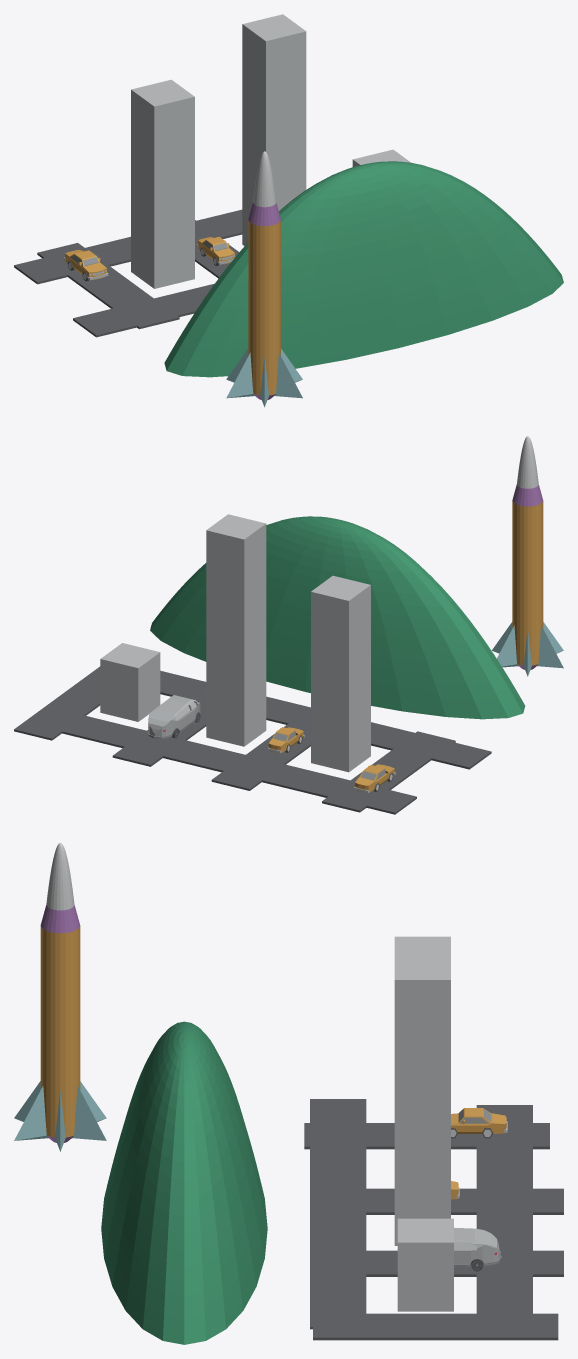
The picture shows the model from 3 angles, top to bottom: view 1: azimuth 30°, elevation 25°; view 2: azimuth 150°, elevation 25°; view 3: azimuth 270°, elevation 25°; orthographic projection. The views are drawn at different scales.
Visible parts, largest first — view 1: Mesh_Mesh_head_geo.001_lambert2SG.001; view 2: Mesh_Mesh_head_geo.001_lambert2SG.001; view 3: Mesh_Mesh_head_geo.001_lambert2SG.001.
Part boxes in pixels (left/top/right/bottom): Mesh_Mesh_head_geo.001_lambert2SG.001: left=14, top=14, right=563, bottom=407; Mesh_Mesh_head_geo.001_lambert2SG.001: left=14, top=436, right=563, bottom=814; Mesh_Mesh_head_geo.001_lambert2SG.001: left=14, top=843, right=563, bottom=1344.
Bounding box in the file's own units: 204 × 116 × 195.
